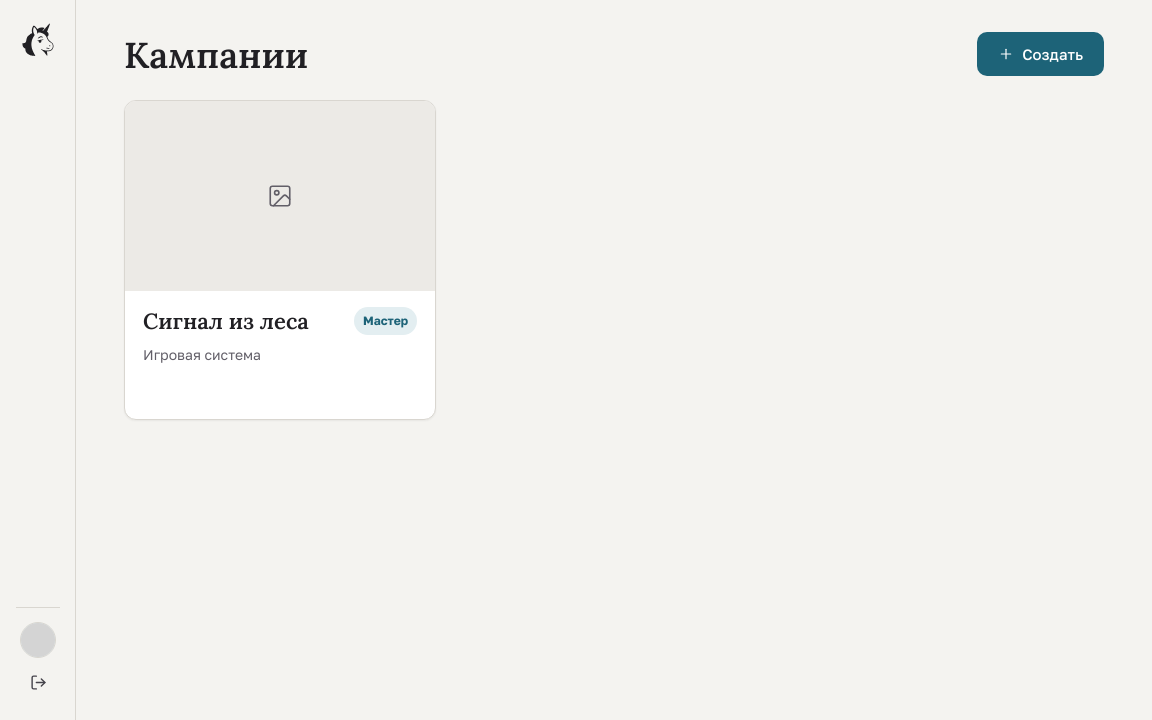
CampaignListPage › keeps the campaign list behind the new campaign dialog
Click the button with aria-label "Создать кампанию": (1041, 54) [977,32,1104,76]
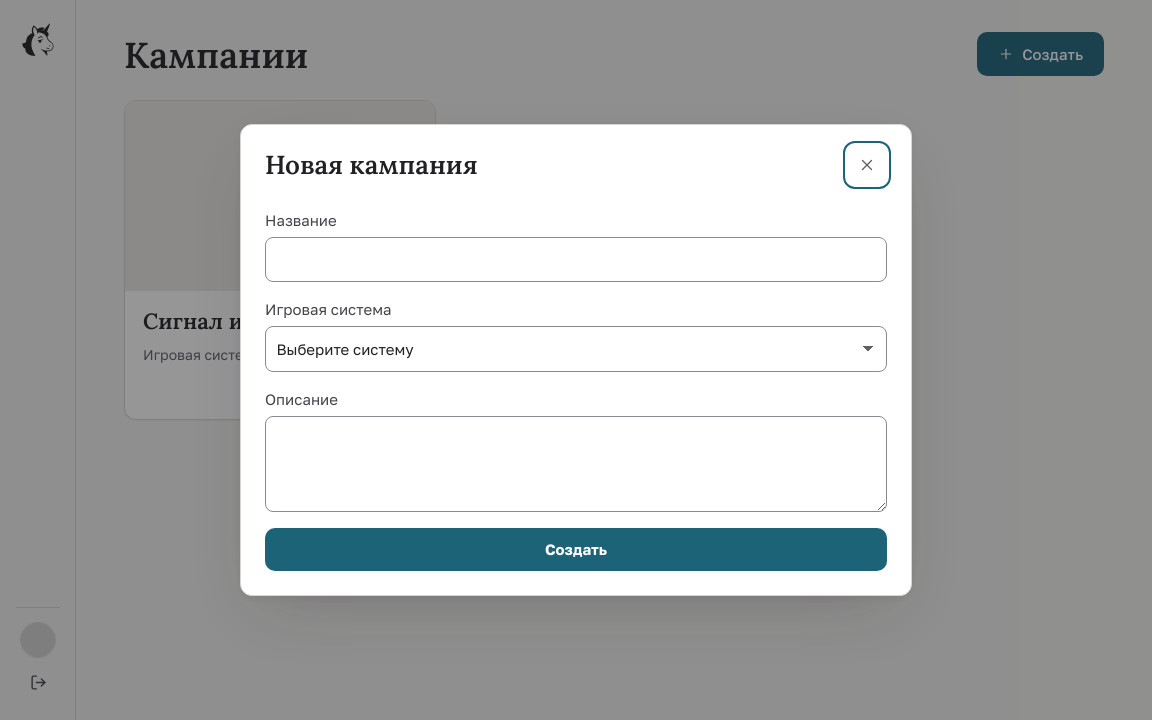
expect the link "Сигнал из леса Мастер Игровая система" is shown: met, box [124,100,436,420]
expect the dialog is shown: met, box [240,124,912,596]
